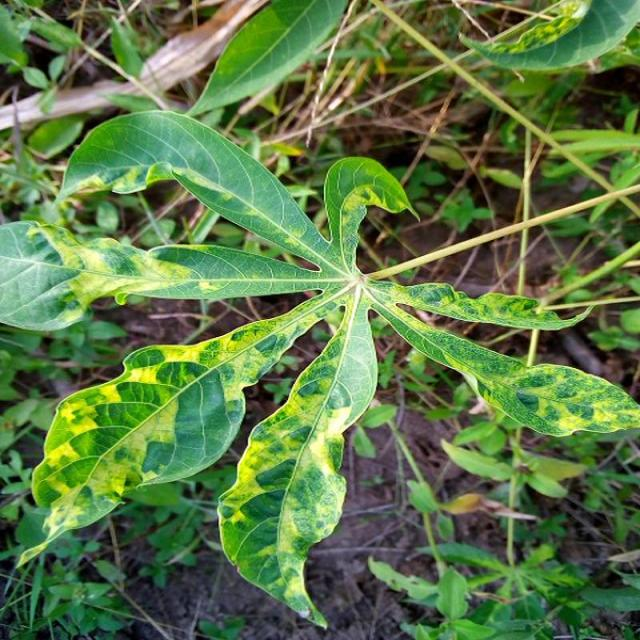cassava leaf: (8, 106, 638, 627), (216, 285, 378, 628), (457, 0, 638, 73)
